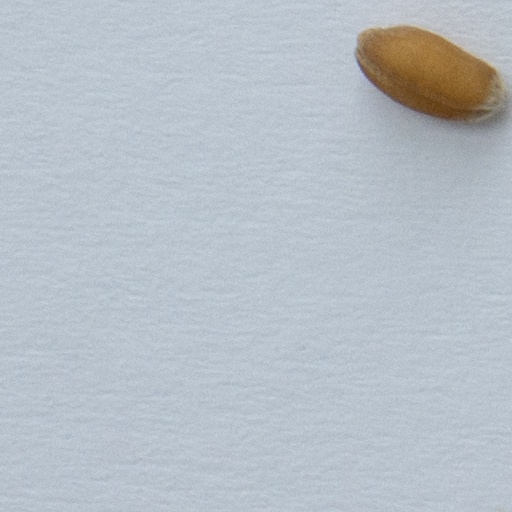Wheat-grain-poly: (353, 26, 502, 121)
